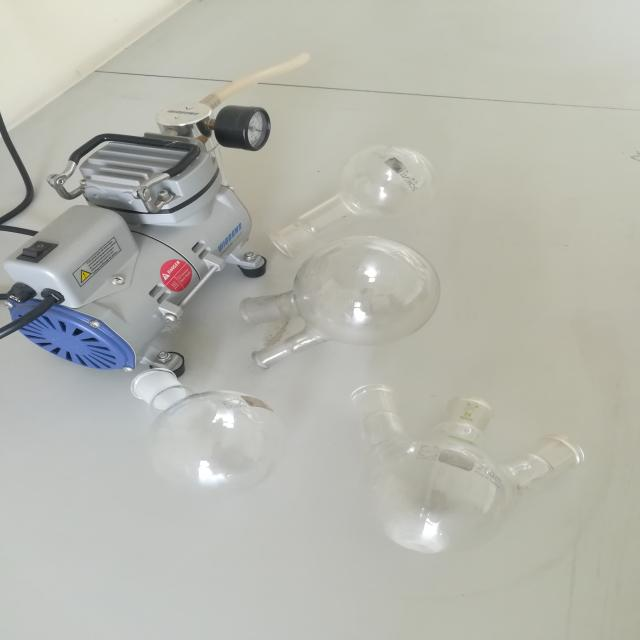Round_Bottom_Flask_Borosilicate_Glass_1_Neck: (241, 113, 473, 264), (104, 346, 299, 500)
Round_Bottom_Flask_Borosilicate_Glass_2_Neck: (170, 224, 458, 374)
Round_Bottom_Flask_Borosilicate_Glass_3_Neck: (325, 341, 609, 573)
